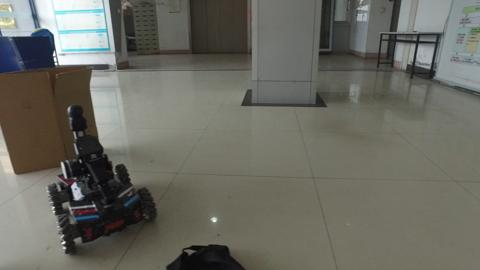chariot: (45, 105, 163, 253)
